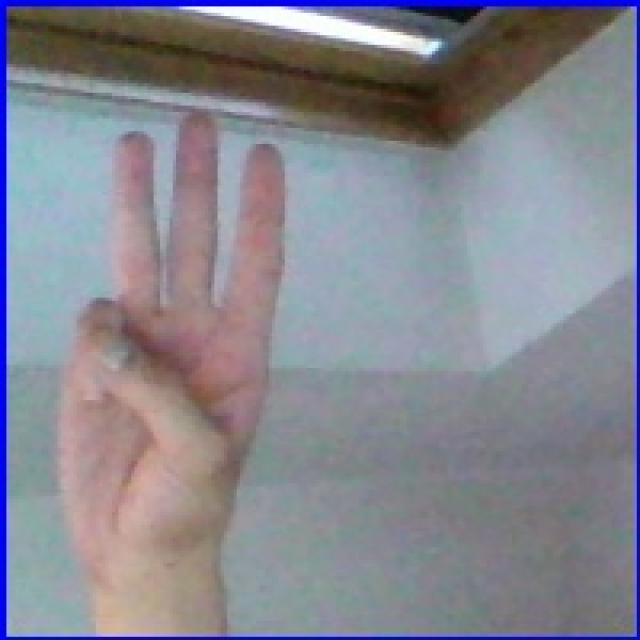Letra-W: (28, 89, 322, 598)
